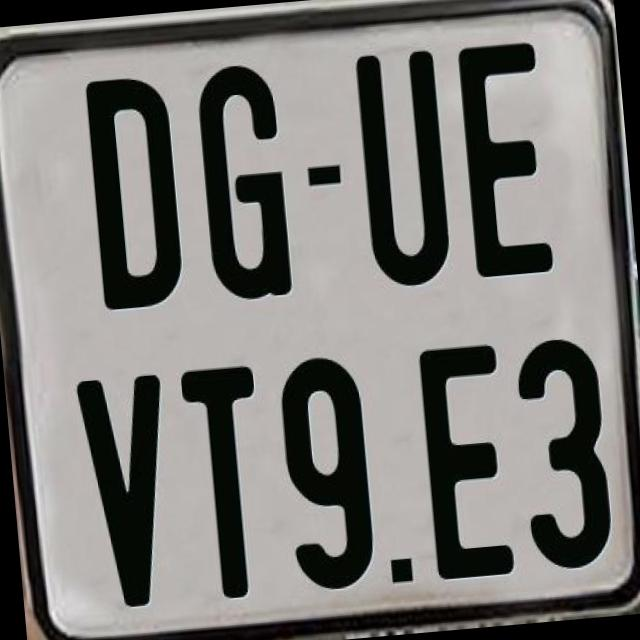3: (512, 335, 614, 570)
9: (276, 352, 379, 598)
D: (82, 72, 188, 318)
E: (452, 36, 557, 281), (416, 342, 515, 582)
G: (194, 57, 297, 305)
T: (180, 364, 279, 600)
U: (350, 48, 456, 286)
V: (71, 374, 183, 610)
